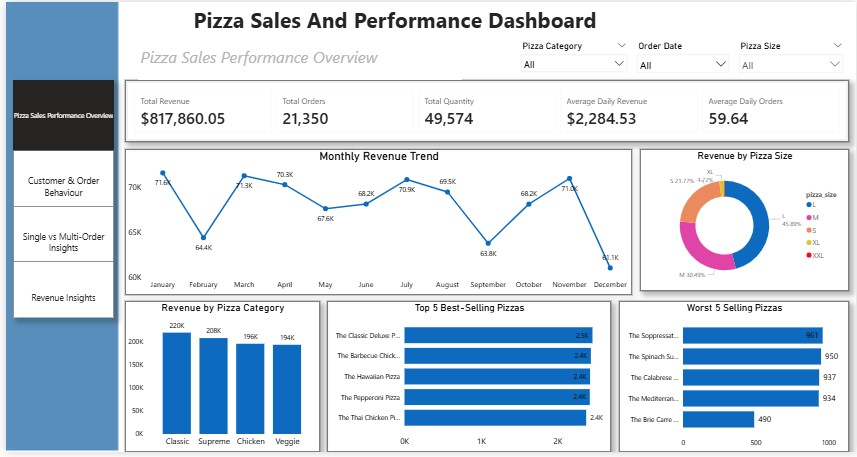

Layout of this report page (visuals, bound fields, positions):
{"tool":"powerbi","page":{"name":"Pizza Sales Performance Overview ","canvas":[1700,900],"ordinal":0},"visuals":[{"type":"cardVisual","fields":{"Data":["Sheet1.Total Revenue","Sheet1.Total Orders","Sheet1.Total Quantity","Sheet1.Average Daily Revenue","Sheet1.Average Daily Orders"]},"box":[238,156,1448,124],"z":0},{"type":"lineChart","title":"Monthly Revenue Trend","fields":{"Y":["Sheet1.Total Revenue"],"Category":["Sheet1.Month"]},"box":[238,294,1014,292],"z":1000},{"type":"clusteredBarChart","title":"Top 5 Best-Selling Pizzas","fields":{"Category":["Sheet1.pizza_name"],"Y":["Sum(Sheet1.quantity)"]},"box":[642,598,568,302],"z":2000},{"type":"donutChart","title":"Revenue by Pizza Size","fields":{"Category":["Sheet1.pizza_size"],"Y":["Sum(Sheet1.total_price)"]},"box":[1268.6,294.3,416.8,292.5],"z":3000},{"type":"clusteredColumnChart","title":"Revenue by Pizza Category","fields":{"Category":["Sheet1.pizza_category"],"Y":["Sum(Sheet1.total_price)"]},"box":[238,598,390,302],"z":4000},{"type":"textbox","box":[264,0,1040,70],"z":5000},{"type":"slicer","title":"Order Date","fields":{"Values":["Sheet1.order_date"]},"box":[1252,72,204,72],"z":6000},{"type":"clusteredBarChart","title":"Worst 5 Selling Pizzas","fields":{"Category":["Sheet1.pizza_name"],"Y":["Sum(Sheet1.quantity)"]},"box":[1226,598,460,302],"z":7000},{"type":"slicer","fields":{"Values":["Sheet1.pizza_category"]},"box":[1020,72,232,72],"z":8000},{"type":"slicer","fields":{"Values":["Sheet1.pizza_size"]},"box":[1456,72,228,72],"z":9000},{"type":"textbox","box":[264,82,648,74],"z":10000},{"type":"pageNavigator","box":[14,156,202,476],"z":11000}]}

Visuals, with their boxes in screenshot pixels (x1, y1, x2, y2), scaled from the page's 1700x900 canvas onto the 857x457 screenshot:
cardVisual - Sheet1.Total Revenue x Sheet1.Total Orders: BBox(120, 79, 850, 142)
"Monthly Revenue Trend" lineChart: BBox(120, 149, 631, 298)
"Top 5 Best-Selling Pizzas" clusteredBarChart: BBox(324, 304, 610, 456)
"Revenue by Pizza Size" donutChart: BBox(640, 149, 850, 298)
"Revenue by Pizza Category" clusteredColumnChart: BBox(120, 304, 317, 456)
textbox: BBox(133, 0, 657, 36)
"Order Date" slicer: BBox(631, 37, 734, 73)
"Worst 5 Selling Pizzas" clusteredBarChart: BBox(618, 304, 850, 456)
slicer - Sheet1.pizza_category: BBox(514, 37, 631, 73)
slicer - Sheet1.pizza_size: BBox(734, 37, 849, 73)
textbox: BBox(133, 42, 460, 79)
pageNavigator: BBox(7, 79, 109, 321)
